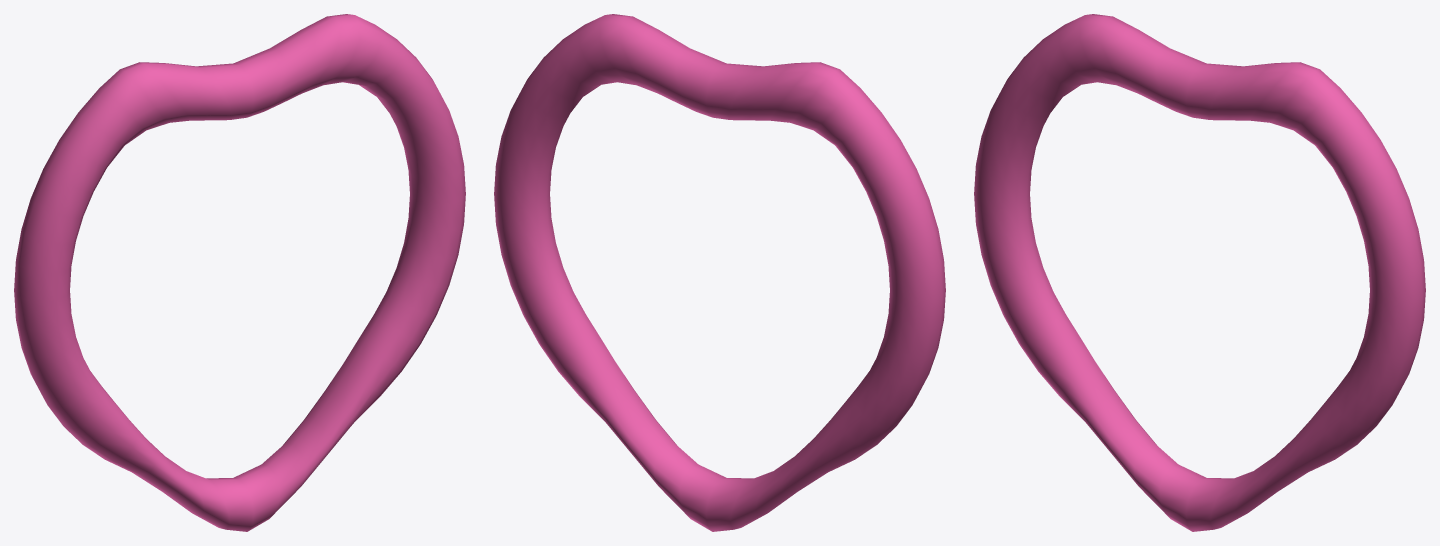
File: circleheart.glb
The picture shows the model from 3 angles, left to right: view 1: azimuth 30°, elevation 25°; view 2: azimuth 150°, elevation 25°; view 3: azimuth 330°, elevation 25°; orthographic projection.
Visible parts, largest first — view 1: Torus; view 2: Torus; view 3: Torus.
Part boxes in pixels (x1,y1,x2,y2): Torus: (14, 14, 465, 531); Torus: (494, 14, 945, 531); Torus: (974, 14, 1425, 531).
Bounding box in the file's own units: 2.24 × 2.37 × 0.245.
